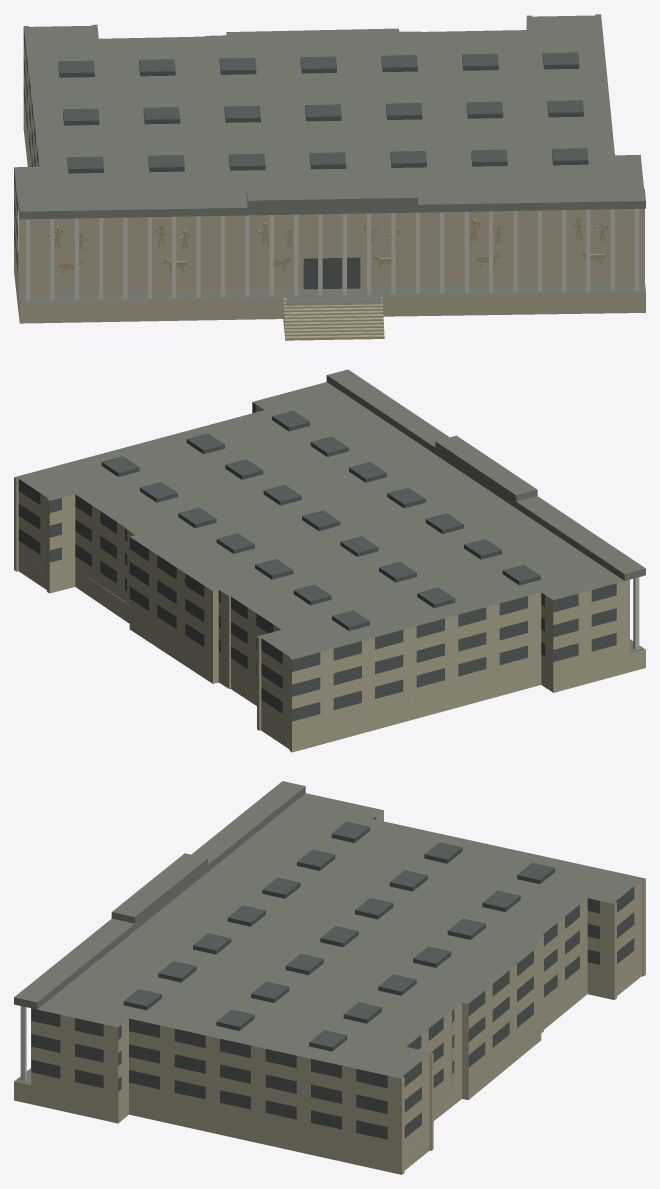
The model's file is palais-de-la-porte-doree-far.glb.
3 renders of one model, top to bottom at view 1: azimuth 30°, elevation 25°; view 2: azimuth 150°, elevation 25°; view 3: azimuth 270°, elevation 25°, orthographic. The views are drawn at different scales.
Visible parts, largest first — view 1: palais-de-la-porte-doree-0-roof, palais-de-la-porte-doree-0-stone, palais-de-la-porte-doree-0-glass, palais-de-la-porte-doree-0-frame, palais-de-la-porte-doree-0-relief; view 2: palais-de-la-porte-doree-0-roof, palais-de-la-porte-doree-0-stone, palais-de-la-porte-doree-0-glass; view 3: palais-de-la-porte-doree-0-roof, palais-de-la-porte-doree-0-stone, palais-de-la-porte-doree-0-glass, palais-de-la-porte-doree-0-frame.
Part boxes in pixels (box(x1,y1,x2,y2)): palais-de-la-porte-doree-0-roof: box(14, 14, 645, 302); palais-de-la-porte-doree-0-stone: box(14, 27, 645, 340); palais-de-la-porte-doree-0-glass: box(14, 21, 588, 289); palais-de-la-porte-doree-0-frame: box(25, 209, 639, 300); palais-de-la-porte-doree-0-relief: box(48, 218, 609, 274); palais-de-la-porte-doree-0-roof: box(14, 369, 645, 659); palais-de-la-porte-doree-0-stone: box(14, 404, 645, 752); palais-de-la-porte-doree-0-glass: box(18, 402, 616, 721); palais-de-la-porte-doree-0-roof: box(14, 781, 645, 1101); palais-de-la-porte-doree-0-stone: box(14, 810, 645, 1174); palais-de-la-porte-doree-0-glass: box(31, 817, 634, 1139); palais-de-la-porte-doree-0-frame: box(20, 1006, 31, 1080).
Size of the model in its own units: 105 by 18.5 by 96.59.
